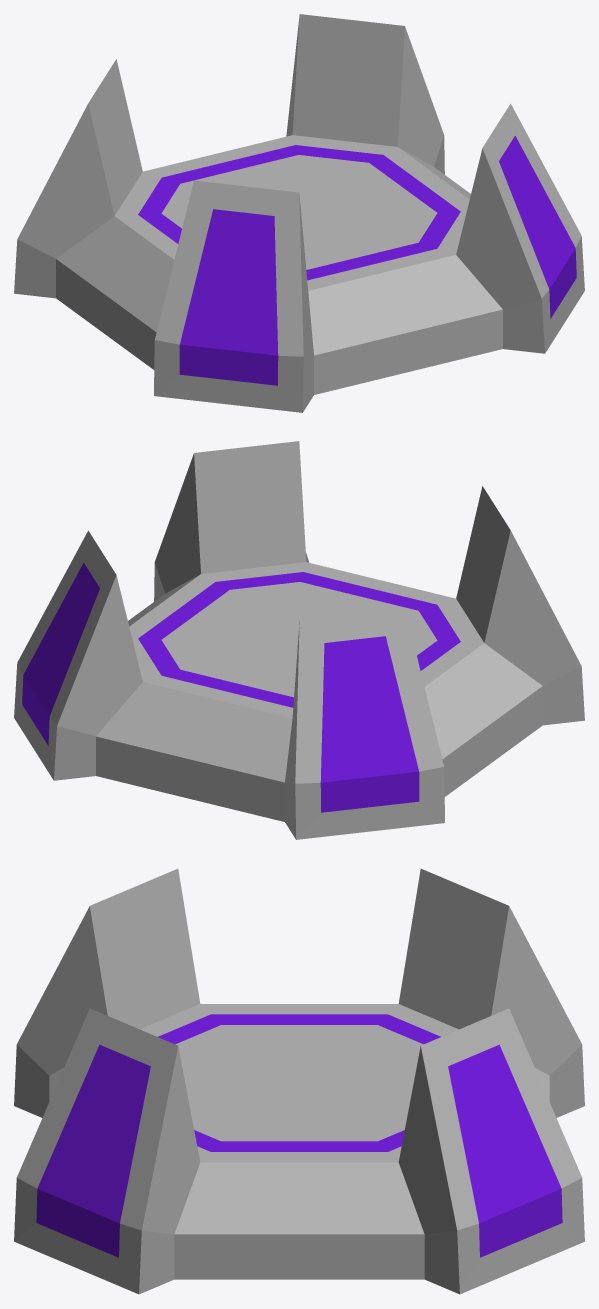
The model's file is Golem Tower lev 3.fbx.
3 views of the same model, one above another, from view 1: azimuth 30°, elevation 25°; view 2: azimuth 150°, elevation 25°; view 3: azimuth 270°, elevation 25° (orthographic). The views are drawn at different scales.
Parts seen in each view (by area): view 1: Torre Wizzard.026; view 2: Torre Wizzard.026; view 3: Torre Wizzard.026.
Part boxes in pixels (x1,y1,x2,y2): Torre Wizzard.026: (14,14,584,412); Torre Wizzard.026: (14,441,584,839); Torre Wizzard.026: (14,868,584,1294).
Size of the model in its own units: 17.12 by 7.17 by 17.12.
